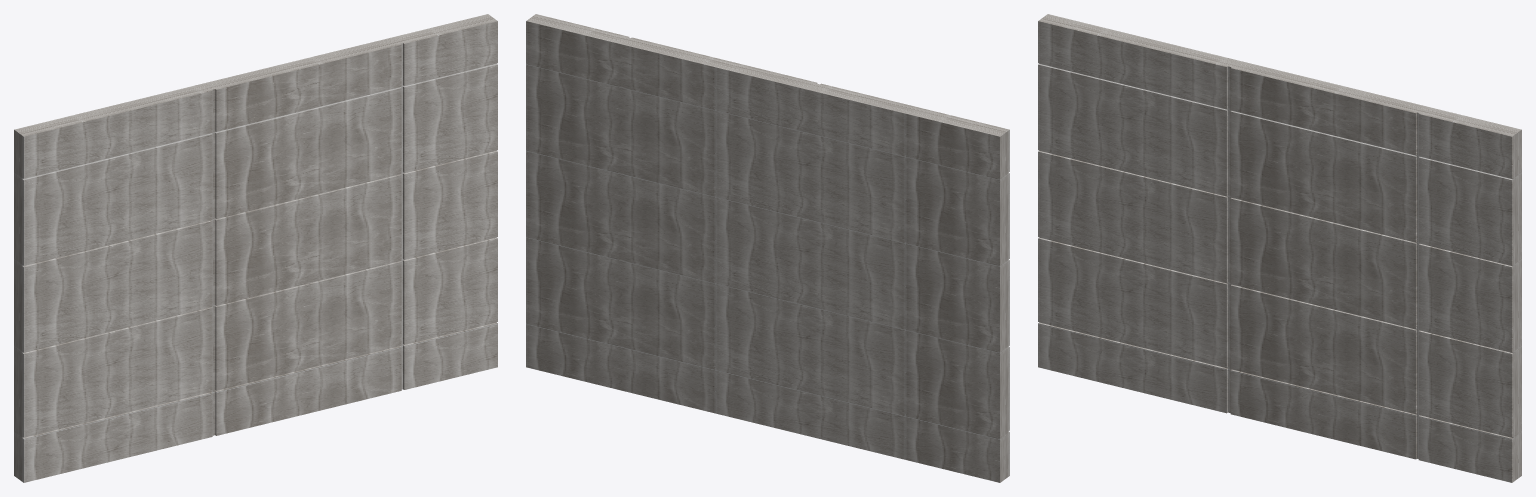
The model's file is Environment_TileWall_WavyGrey.glb.
The picture shows the model from 3 angles, left to right: view 1: azimuth 30°, elevation 25°; view 2: azimuth 150°, elevation 25°; view 3: azimuth 330°, elevation 25°; orthographic projection.
Parts seen in each view (by area): view 1: Cube.004; view 2: Cube.004; view 3: Cube.004.
Boxes of the visible parts, bbox=[...] form: Cube.004: bbox=[14, 14, 497, 482]; Cube.004: bbox=[526, 14, 1009, 482]; Cube.004: bbox=[1038, 14, 1521, 482].
Bounding box in the file's own units: 19.66 × 13.72 × 0.6967.
1 material, 1 textured.
